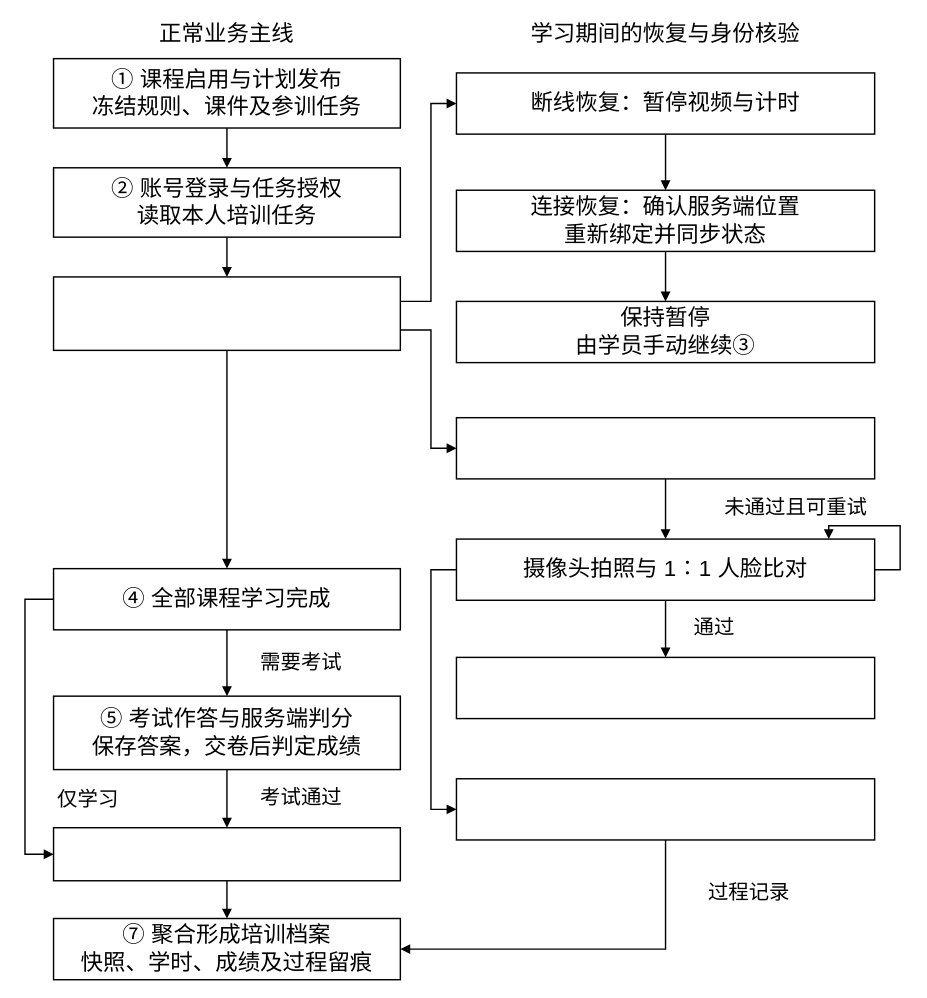
Image size: 927x998. Some labels were removed from this diagram. Here are the shapes that lost their labels. From the top down, the box of each, then its label:
(52, 276, 401, 351): ③ 视频播放与学时确认 以服务端受理结果累计学时
(455, 416, 875, 479): 启用抽验且到达触发时点 暂停播放，等待核验
(455, 656, 875, 719): 核验通过：保持暂停 由学员手动继续③
(455, 778, 875, 840): 超时或次数耗尽 终止学习会话，记录核验结果
(52, 827, 401, 881): ⑥ 按规则判定培训完成
